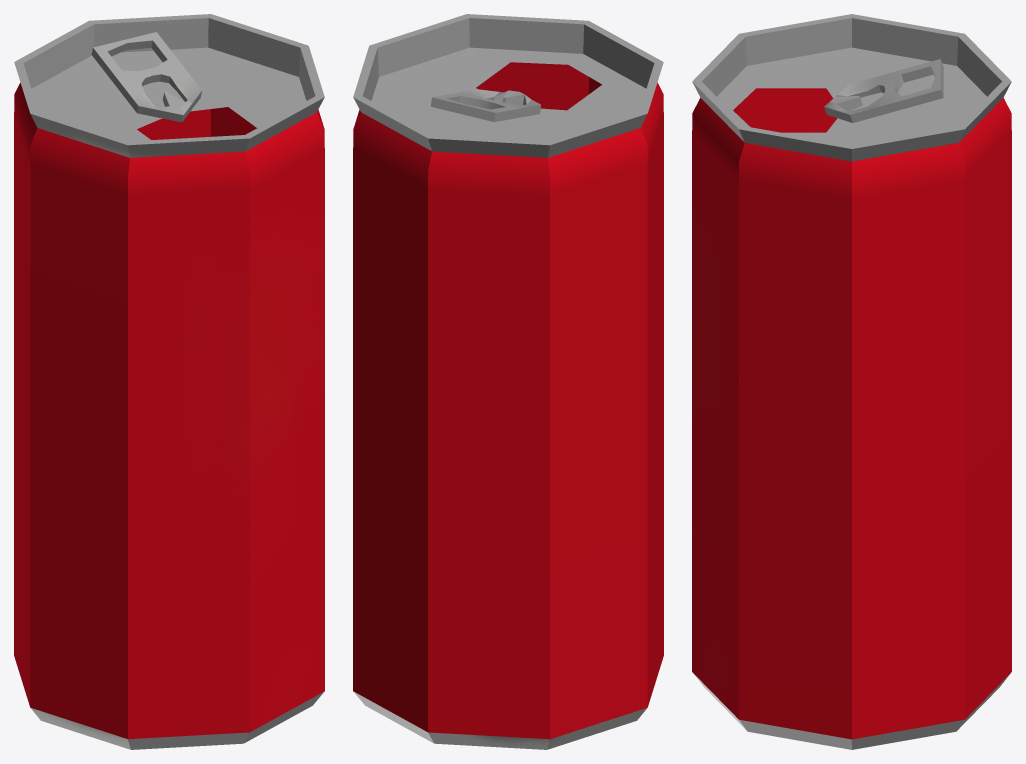
3 renders of one model, left to right at view 1: azimuth 30°, elevation 25°; view 2: azimuth 150°, elevation 25°; view 3: azimuth 270°, elevation 25°, orthographic.
Parts seen in each view (by area): view 1: 円柱.001; view 2: 円柱.001; view 3: 円柱.001.
Part boxes in pixels (bbox=[...]): 円柱.001: bbox=[14, 14, 324, 749]; 円柱.001: bbox=[353, 14, 663, 749]; 円柱.001: bbox=[692, 14, 1011, 749].
Bounding box in the file's own units: 7.72 × 16.34 × 7.72.
1 material, 1 textured.
